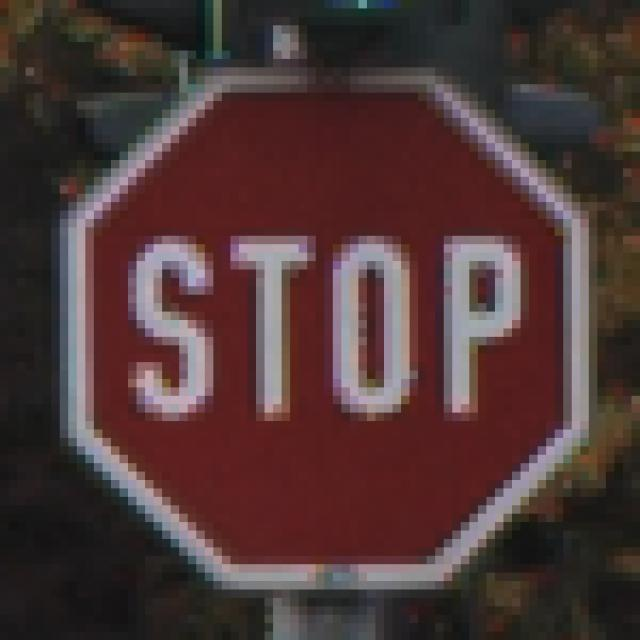STOP: (52, 60, 590, 590)
